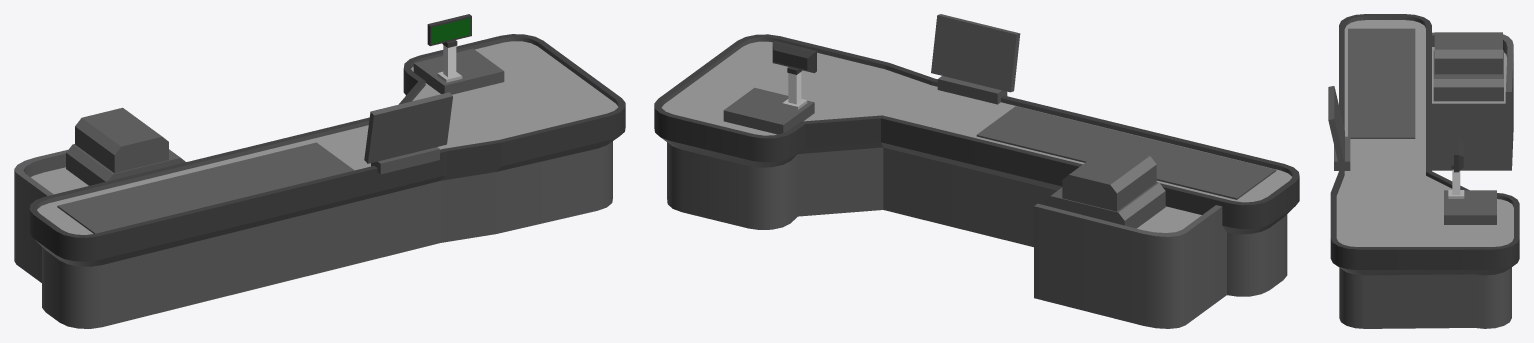
Rendered from checkOutCounter.fbx.
The picture shows the model from 3 angles, left to right: view 1: azimuth 30°, elevation 25°; view 2: azimuth 150°, elevation 25°; view 3: azimuth 270°, elevation 25°; orthographic projection. The views are drawn at different scales.
Parts seen in each view (by area): view 1: checkOutCounter; view 2: checkOutCounter; view 3: checkOutCounter.
Boxes of the visible parts, x1=… form: checkOutCounter: x1=14, y1=14, x2=625, y2=328; checkOutCounter: x1=654, y1=14, x2=1299, y2=328; checkOutCounter: x1=1328, y1=14, x2=1519, y2=328.
Size of the model in its own units: 600 by 164 by 206.
